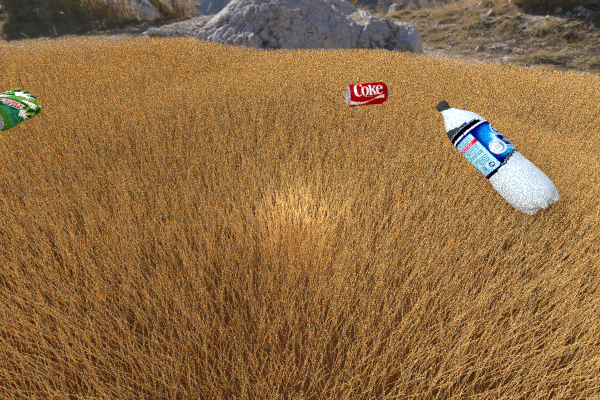Plastic Bottle: (435, 100, 559, 214), (0, 88, 40, 131), (344, 81, 388, 106)
